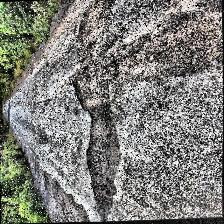pothole: (71, 78, 123, 222)
